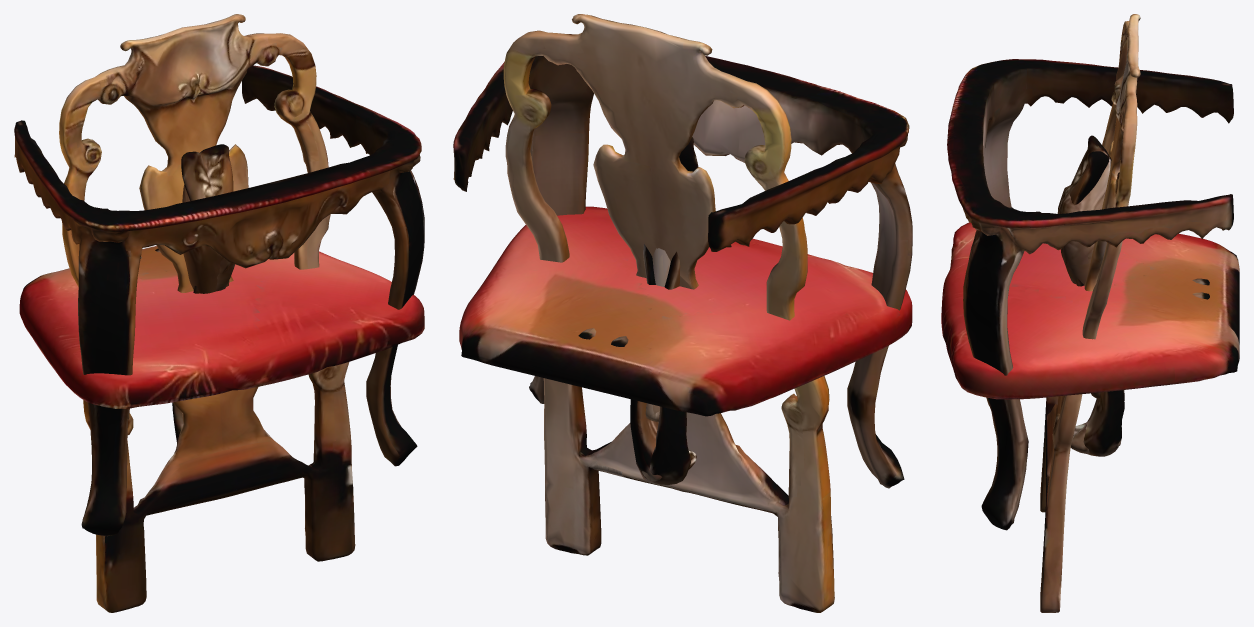
3 views of the same model, side by side, from view 1: azimuth 30°, elevation 25°; view 2: azimuth 150°, elevation 25°; view 3: azimuth 270°, elevation 25° (orthographic). The views are drawn at different scales.
Parts seen in each view (by area): view 1: root.0, root.2, root.1, root.3, root.4; view 2: root.0, root.1, root.2, root.4, root.3; view 3: root.1, root.2, root.0, root.3, root.4.
Boxes of the visible parts, x1,y1,x2,y2 form: root.0: [59, 14, 355, 612]; root.2: [14, 65, 424, 536]; root.1: [19, 246, 424, 408]; root.3: [182, 144, 233, 293]; root.4: [172, 151, 234, 443]; root.0: [503, 14, 834, 612]; root.1: [459, 206, 912, 416]; root.2: [453, 34, 912, 488]; root.4: [642, 137, 698, 484]; root.3: [630, 251, 696, 482]; root.1: [941, 222, 1239, 399]; root.2: [947, 59, 1233, 530]; root.0: [1040, 14, 1140, 612]; root.3: [1057, 151, 1124, 456]; root.4: [1058, 135, 1124, 453].
Size of the model in its own units: 16194 by 23354 by 12264.
1 material, 1 textured.
